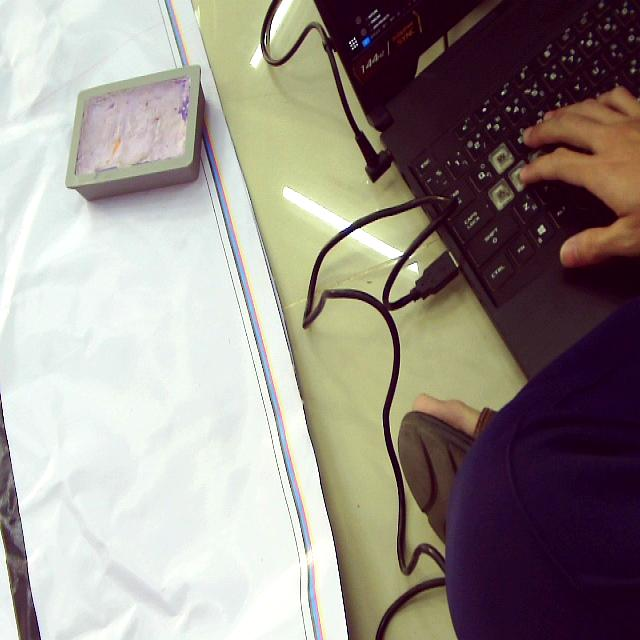block: (65, 65, 206, 201)
